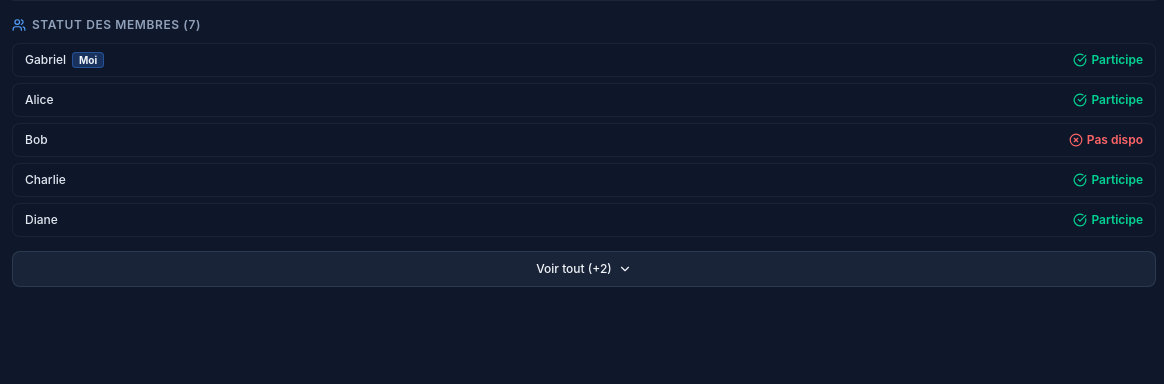
EventMemberStatusList › truncates lists beyond 5 members with a "Voir tout (+N)" toggle and expands on click
expect the text "Statut des membres (7)" is shown: met, box x1=32 y1=17 x2=201 y2=33
expect the text "Gabriel" is shown: met, box x1=25 y1=52 x2=66 y2=68
Click the button "Voir tout (+2)" at [584, 269], box x1=12 y1=251 x2=1156 y2=287
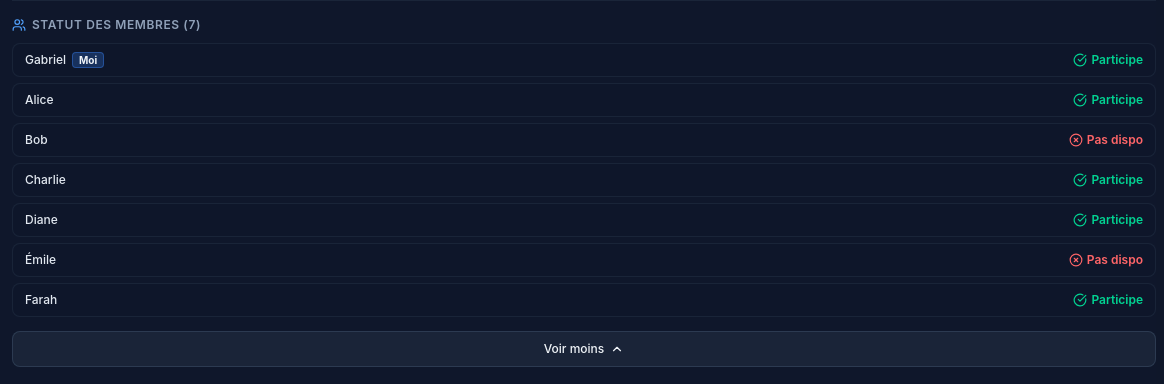
expect the text "Farah" is shown: met, box x1=25 y1=292 x2=57 y2=308
expect the text "Émile" is shown: met, box x1=25 y1=252 x2=56 y2=268
expect the button "Voir moins" is expanded: met
Click the button "Voir moins" at [584, 349], box x1=12 y1=331 x2=1156 y2=367
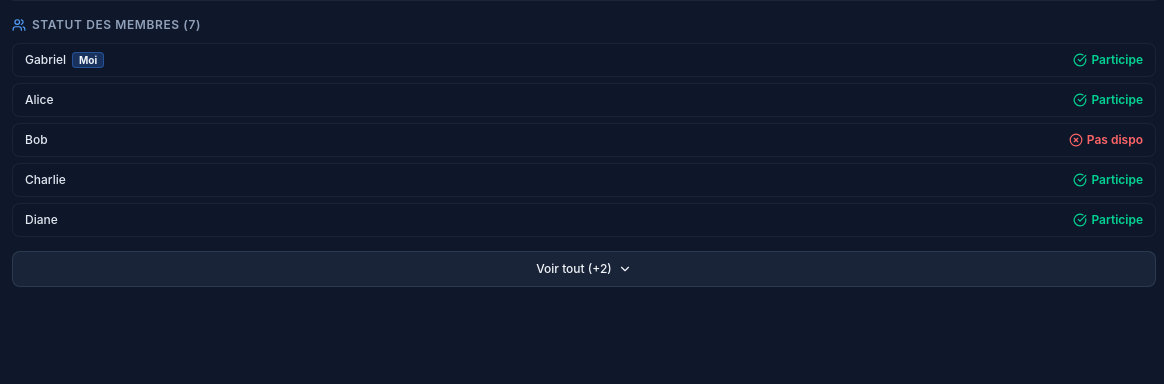
expect the text "Farah" is gone: met
